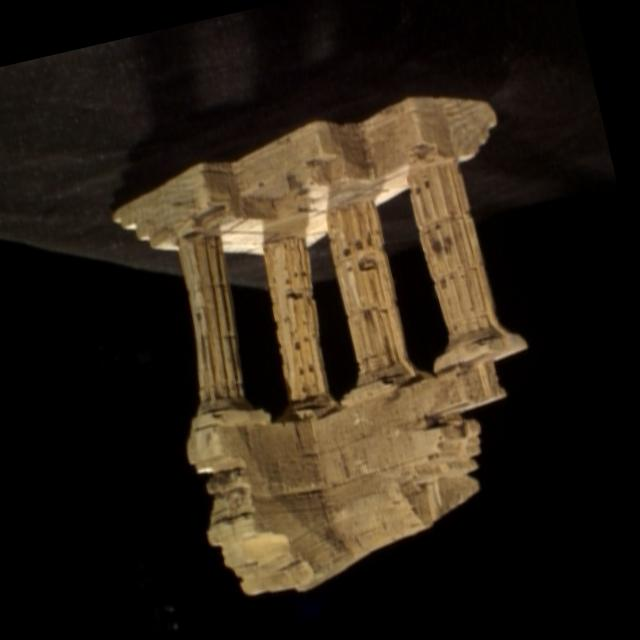Instance-Segmentation: (112, 96, 525, 593)
